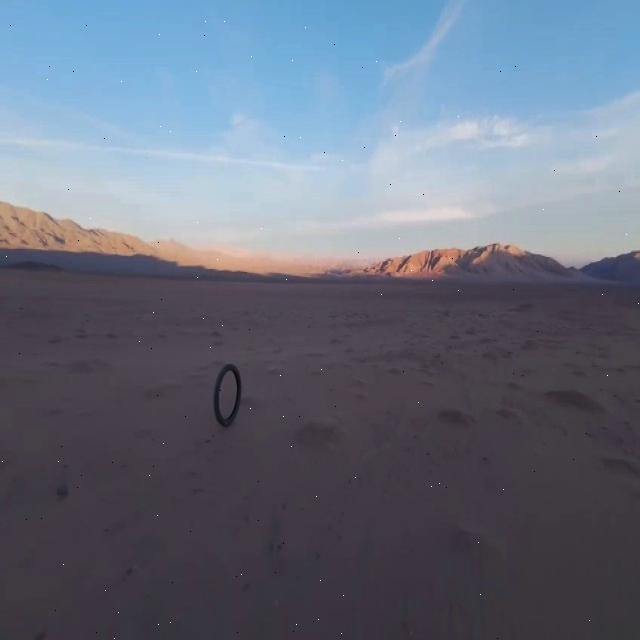Tire: (214, 364, 241, 426)
